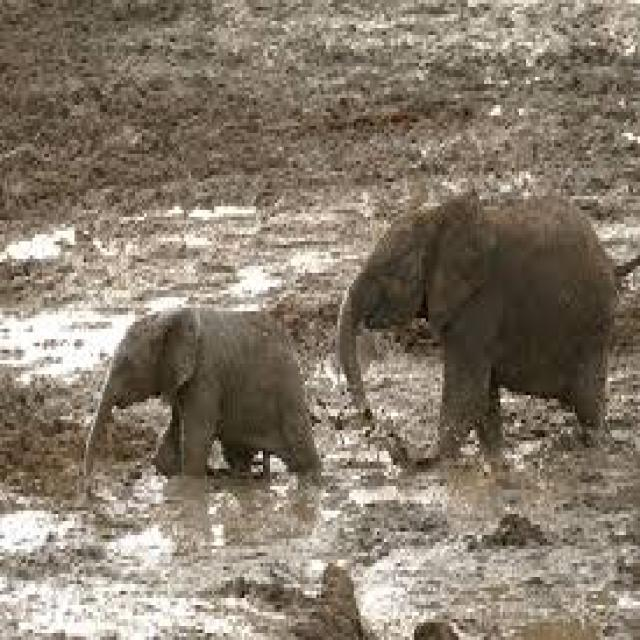Elephant: (333, 185, 621, 462), (82, 301, 321, 479)
